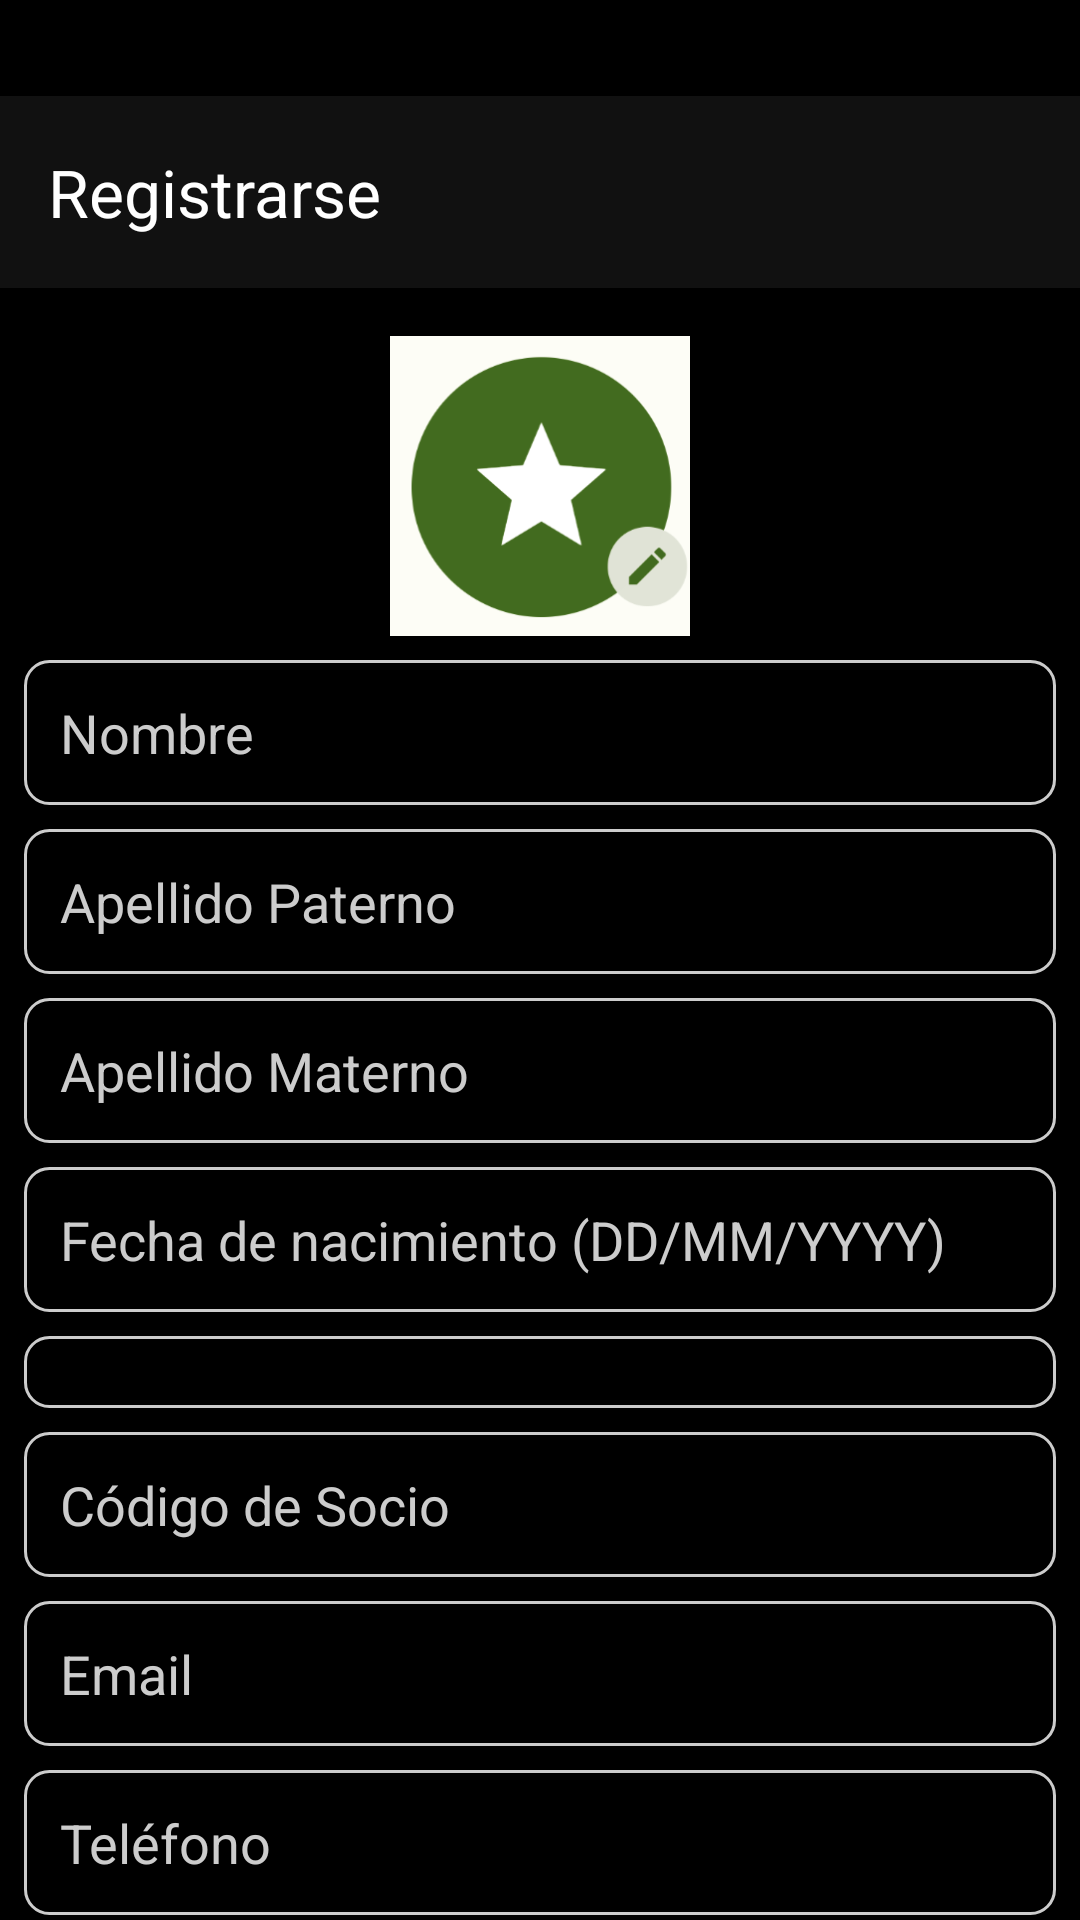

Locate icon controls on the screen. Image size 1080*1920, boxes as bbox=(x1, y1, x2, y2).
escudo: bbox=(390, 336, 690, 636)
